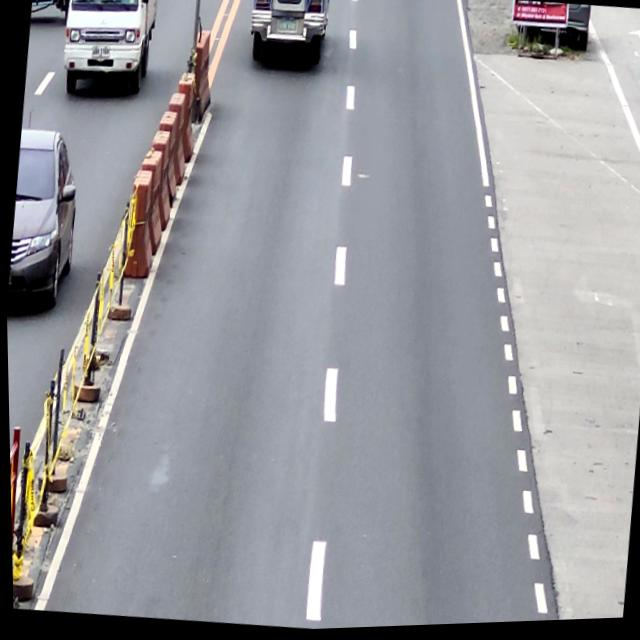Jeep: (244, 0, 331, 72)
License-Plate: (276, 18, 296, 34)
